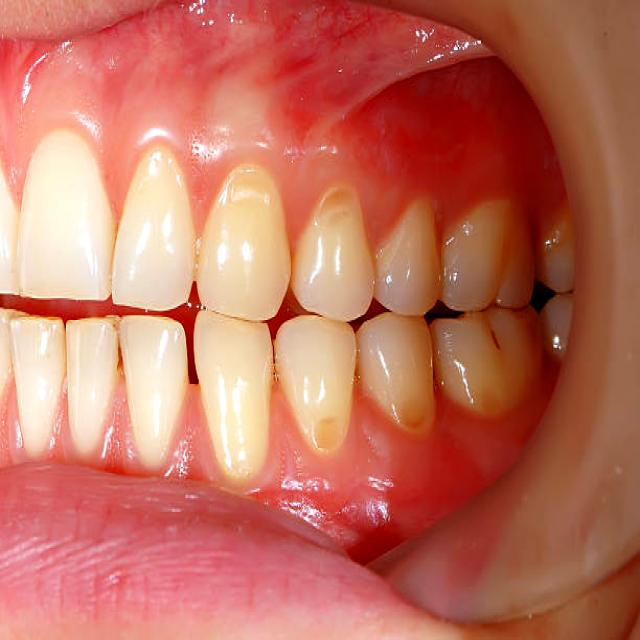gingivitis: (0, 0, 131, 180), (281, 412, 375, 489), (193, 425, 273, 490), (191, 122, 291, 172)
